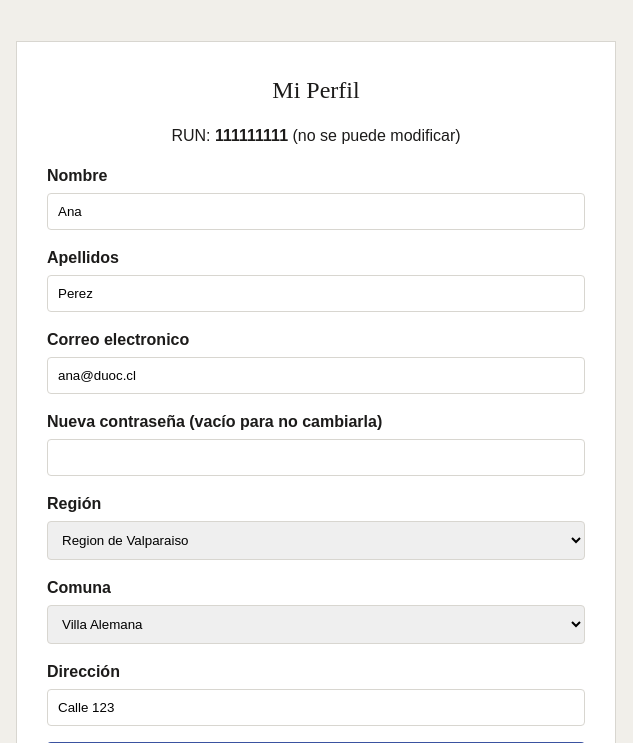
Test: Perfil › guarda los cambios sin incluir clave si esta vacia
Replace the text in the field labelled "Nombre" with "Ana Maria" at (316, 212), box [47,193,585,230]
(page scrolled)
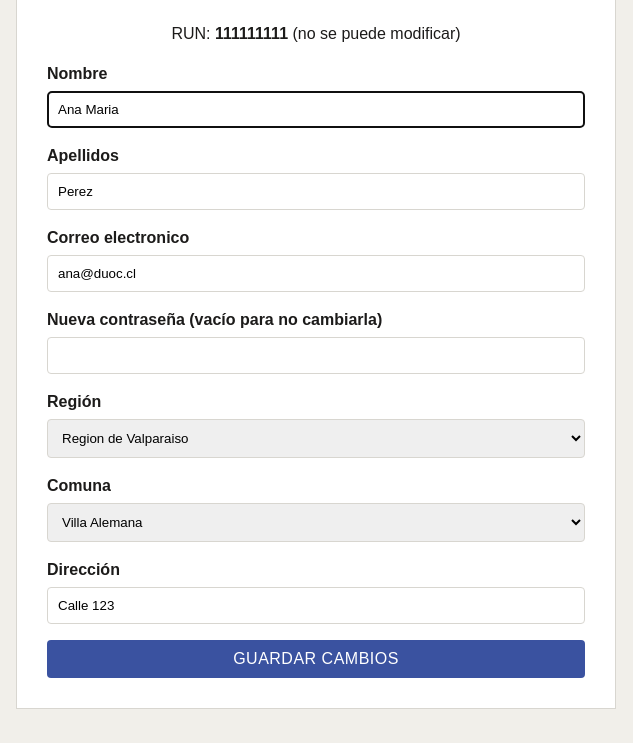
Click the button "Guardar cambios" at (316, 659), box [47,640,585,678]
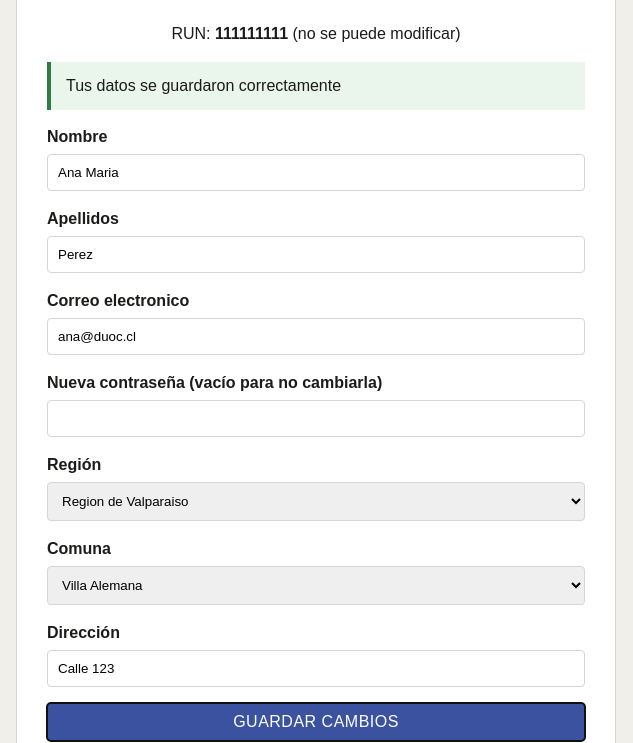
expect the text "Tus datos se guardaron correctamente" is shown: met, box [47,62,585,110]
